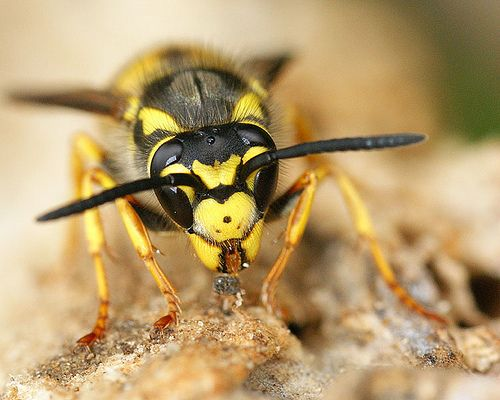chax: (20, 27, 434, 331)
